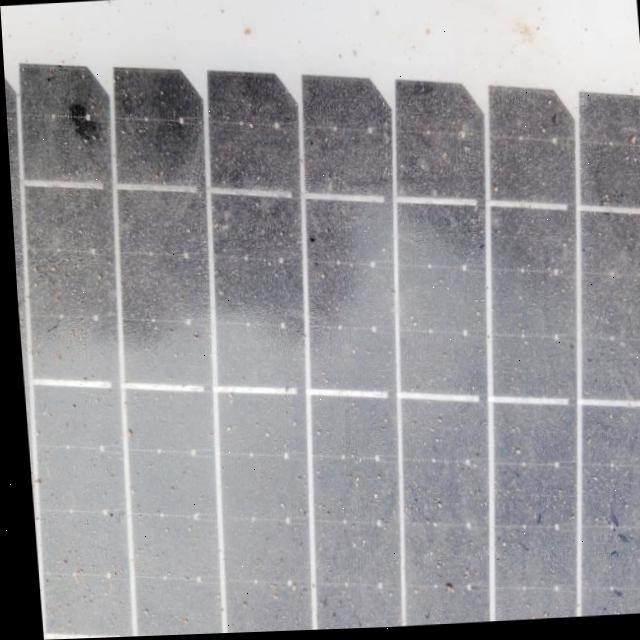Surface Contaminant: (3, 25, 640, 640)
